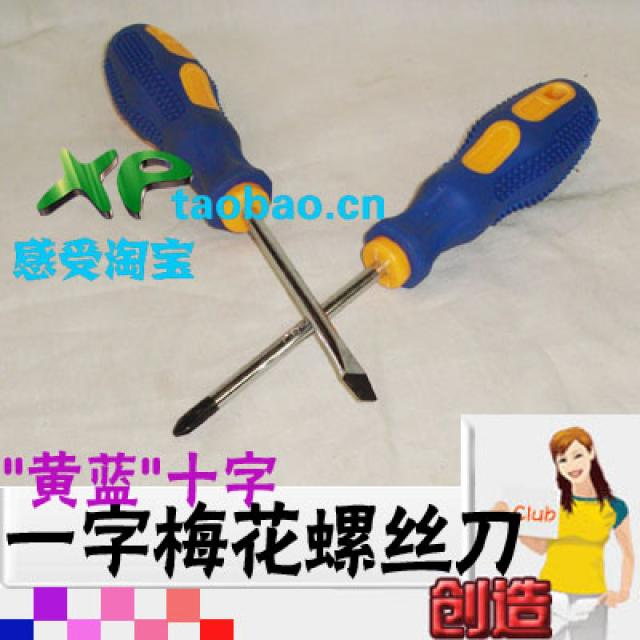screw driver: (84, 22, 592, 430)
